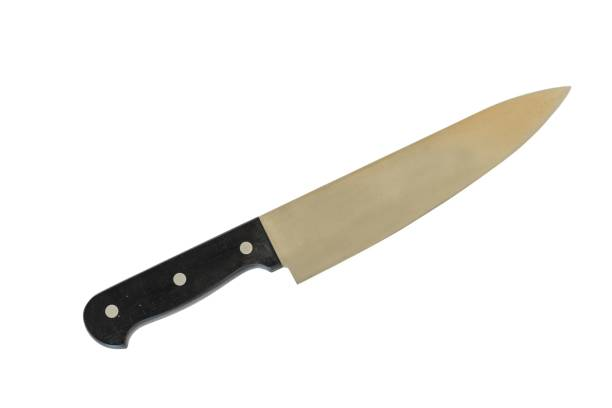knife: (82, 86, 577, 350)
